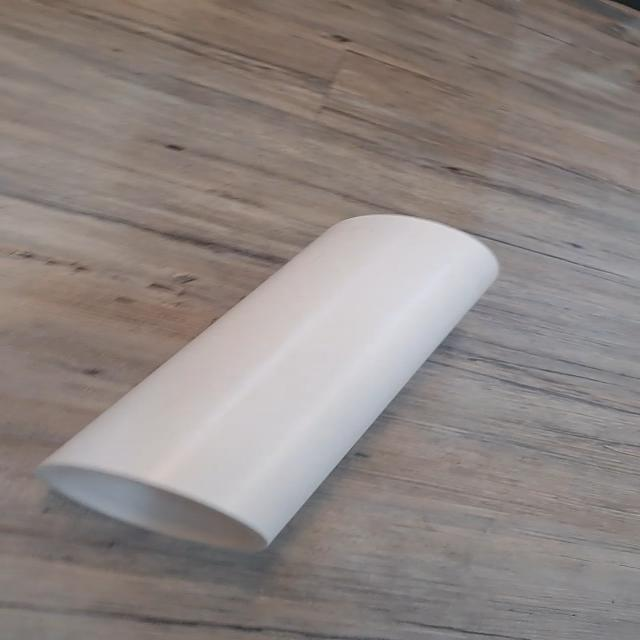CORAL: (28, 205, 514, 561)
